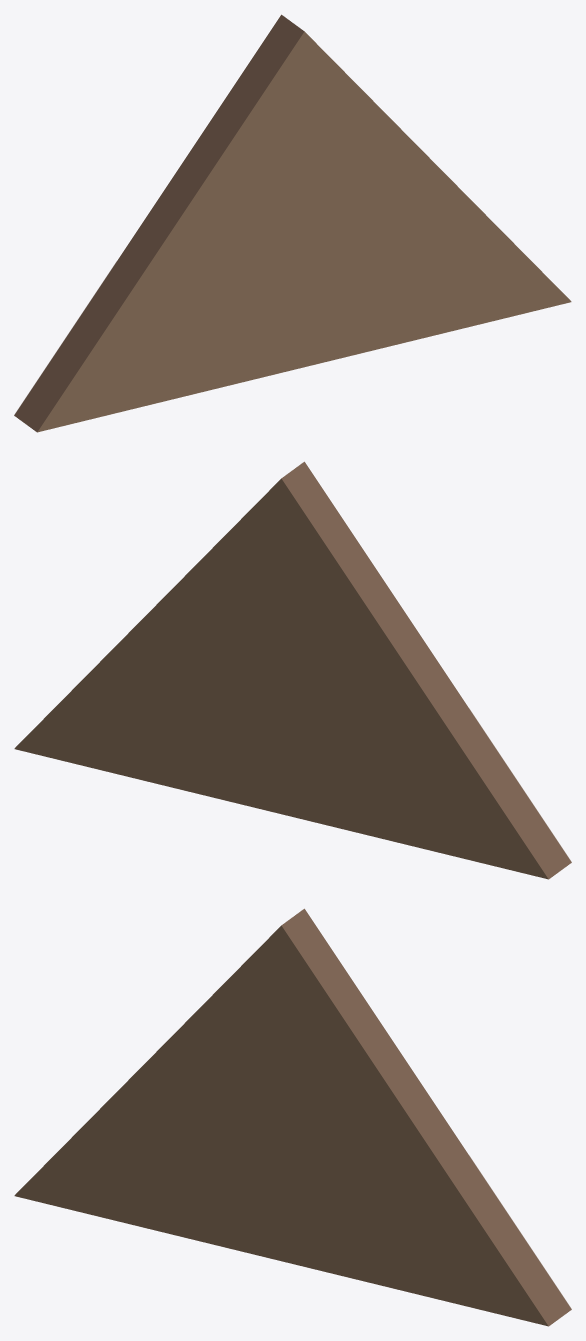
File: haunted_roof_gableplanks.glb
The picture shows the model from 3 angles, top to bottom: view 1: azimuth 30°, elevation 25°; view 2: azimuth 150°, elevation 25°; view 3: azimuth 330°, elevation 25°; orthographic projection.
Parts seen in each view (by area): view 1: Haunted_Roof_GablePlanks; view 2: Haunted_Roof_GablePlanks; view 3: Haunted_Roof_GablePlanks.
Part boxes in pixels (left/top/right/bottom): Haunted_Roof_GablePlanks: left=14, top=14, right=571, bottom=432; Haunted_Roof_GablePlanks: left=14, top=461, right=571, bottom=879; Haunted_Roof_GablePlanks: left=14, top=908, right=571, bottom=1326.
Bounding box in the file's own units: 4 × 2.4 × 0.3.
